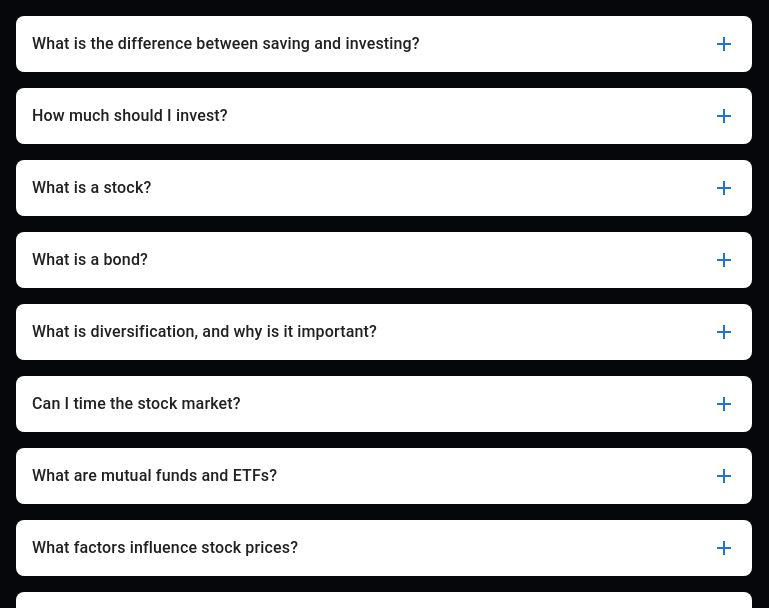
Scenario: FAQ Component › allows multiple FAQ items to be open
This screenshot has width=769, height=608.
Click the text "What is a stock?". click: [92, 188]
box: x1=32 y1=178 x2=151 y2=197
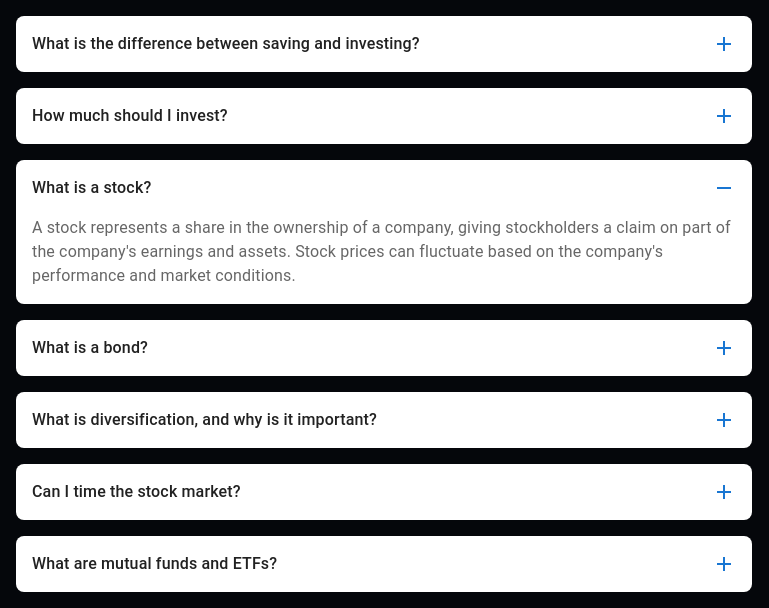
Click the text "What is a bond?". click: [90, 348]
box: x1=32 y1=338 x2=148 y2=357
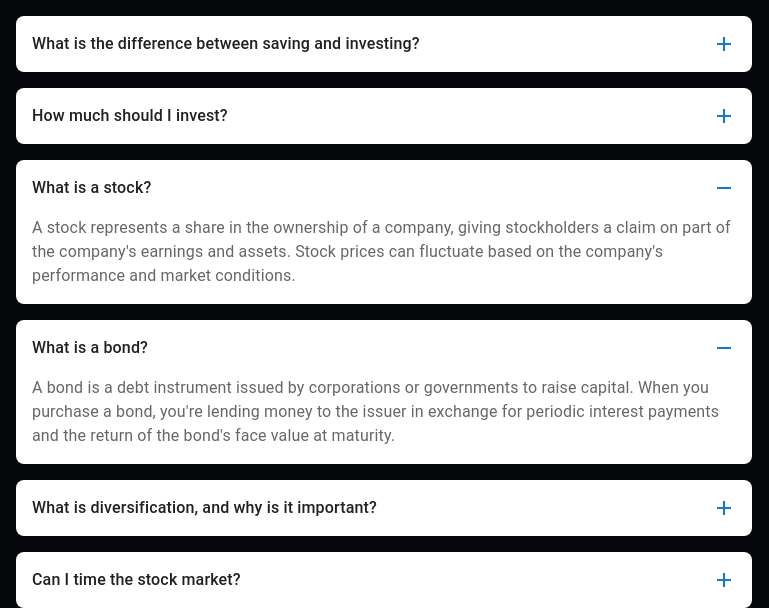
Result: the text "A stock represents" is shown at x1=32 y1=218 x2=731 y2=285
Result: the text "A bond is a debt instrument" is shown at x1=32 y1=378 x2=719 y2=445
